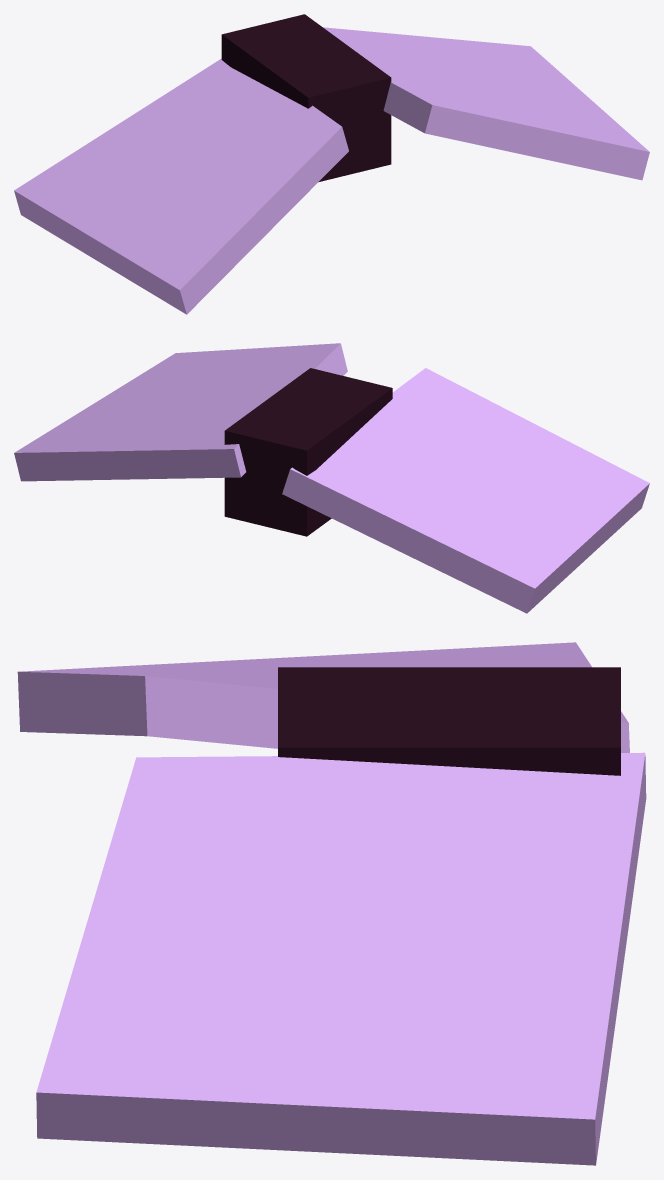
The model's file is fly.glb.
The picture shows the model from 3 angles, top to bottom: view 1: azimuth 30°, elevation 25°; view 2: azimuth 150°, elevation 25°; view 3: azimuth 270°, elevation 25°; orthographic projection. The views are drawn at different scales.
Parts seen in each view (by area): view 1: Cube; view 2: Cube; view 3: Cube.
Part boxes in pixels (box(x1,y1,x2,y2)): Cube: box(14, 14, 649, 314); Cube: box(14, 343, 649, 613); Cube: box(17, 642, 646, 1165).
Size of the model in its own units: 0.9928 by 0.225 by 0.5234.
